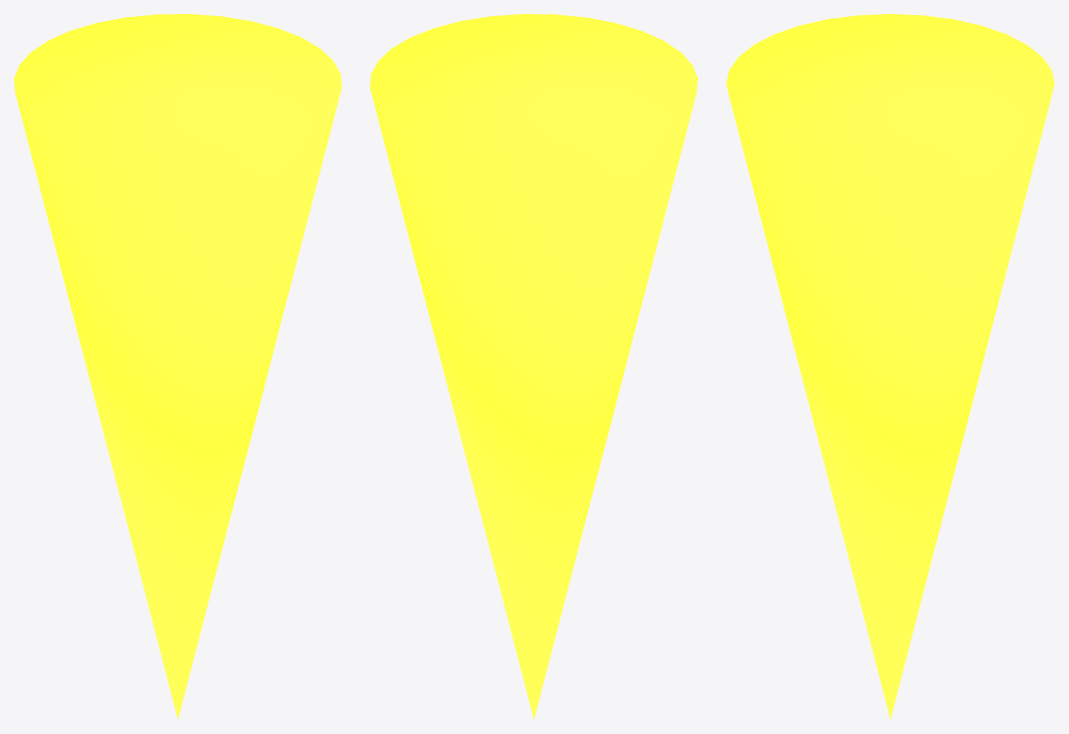
Rendered from ConeLumiere1.glb.
3 views of the same model, side by side, from view 1: azimuth 30°, elevation 25°; view 2: azimuth 150°, elevation 25°; view 3: azimuth 270°, elevation 25° (orthographic).
Parts seen in each view (by area): view 1: Cone; view 2: Cone; view 3: Cone.
Part boxes in pixels (bbox=[...]): Cone: bbox=[14, 14, 341, 718]; Cone: bbox=[370, 14, 697, 718]; Cone: bbox=[726, 14, 1054, 719].
Bounding box in the file's own units: 4.52 × 9.67 × 4.52.
Materials: 1 (1 with a texture image).
